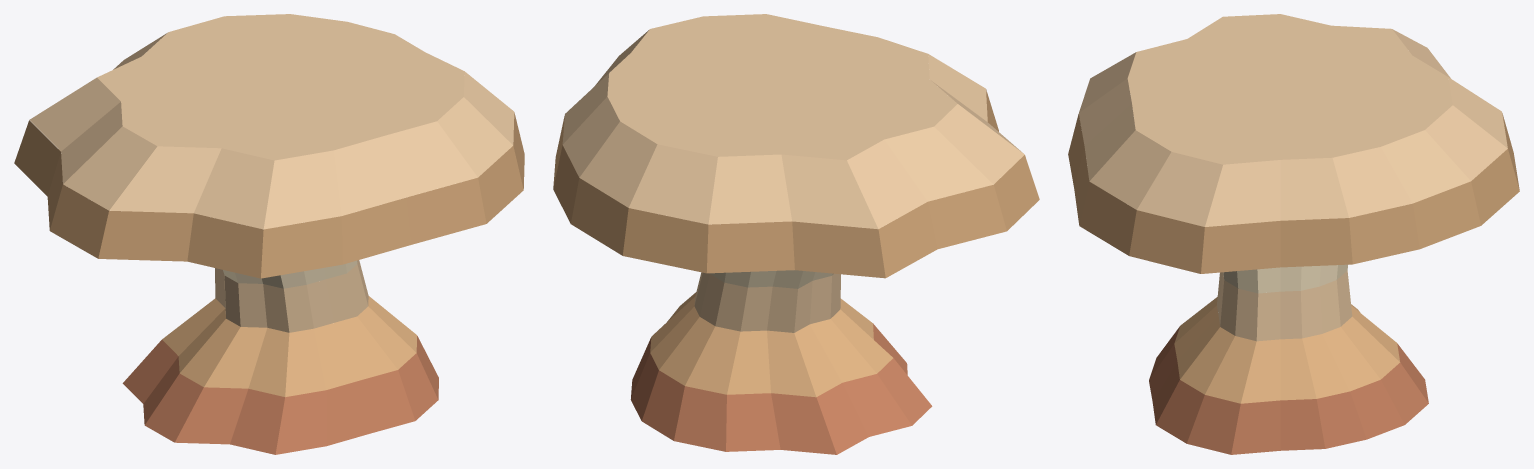
Rendered from desert-canyons-and-oases-toadstool-rock-5d99bc6e__20905.glb.
3 renders of one model, left to right at view 1: azimuth 30°, elevation 25°; view 2: azimuth 150°, elevation 25°; view 3: azimuth 270°, elevation 25°, orthographic.
Visible parts, largest first — view 1: toadstool-rock; view 2: toadstool-rock; view 3: toadstool-rock.
Part boxes in pixels (box(x1,y1,x2,y2)): toadstool-rock: box(14, 14, 524, 454); toadstool-rock: box(553, 14, 1039, 454); toadstool-rock: box(1068, 14, 1519, 454).
Bounding box in the file's own units: 3.14 × 2.1 × 2.86.
